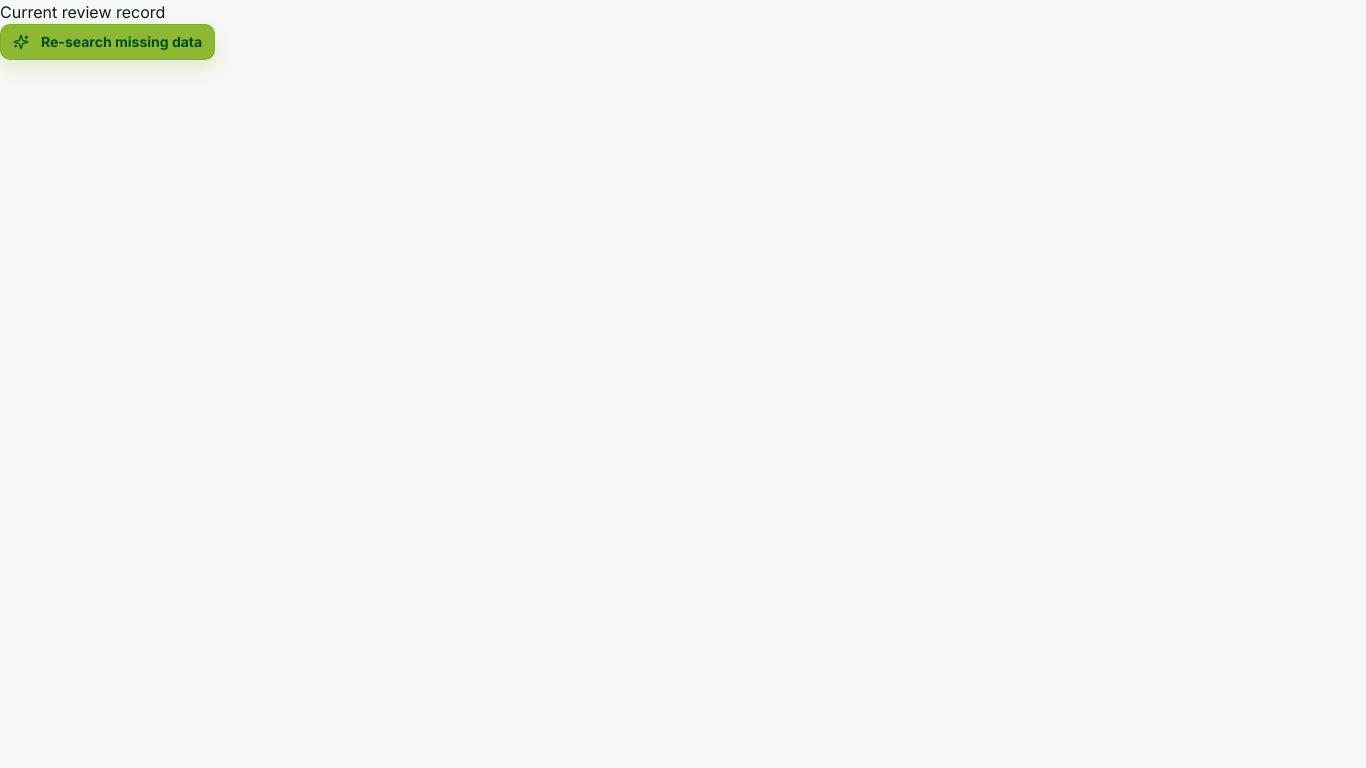
Scenario: V3 re-search missing data › failure keeps the old revision and shows the friendly error
Click the button "Re-search missing data": coordinates (108, 42) [0,24,215,60]
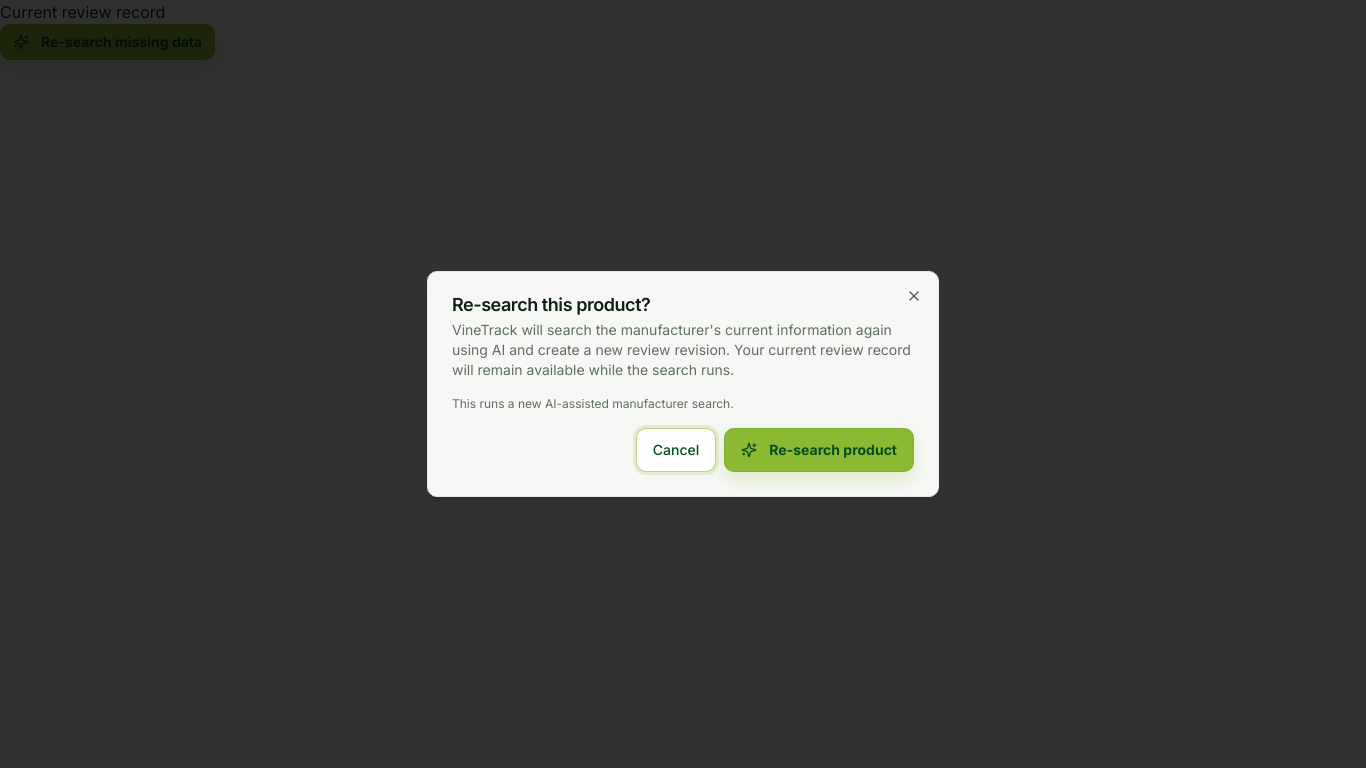
Click the button "Re-search product": coordinates (819, 450) [724,428,914,472]
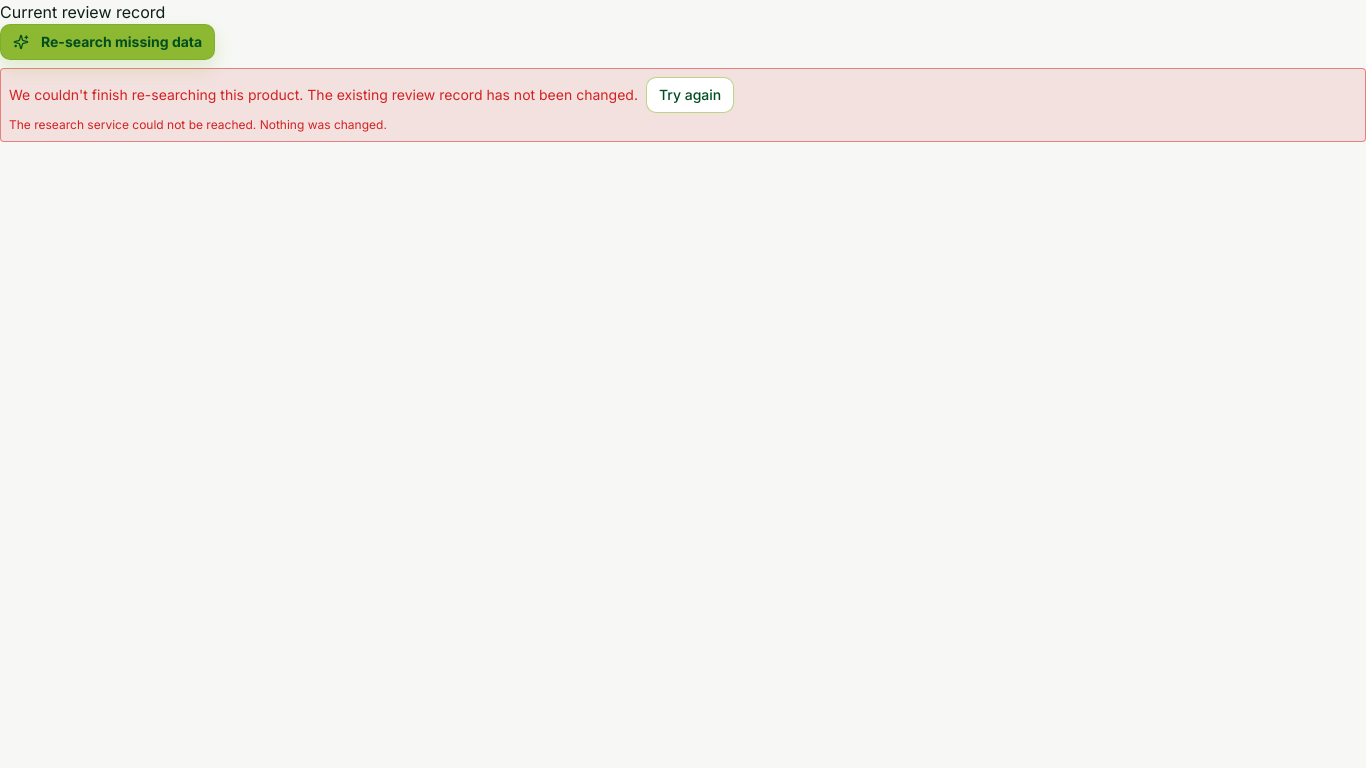
Check: the text "We couldn't finish re-searching this product. The existing review record has not been changed." is shown, box [9,86,638,103]
